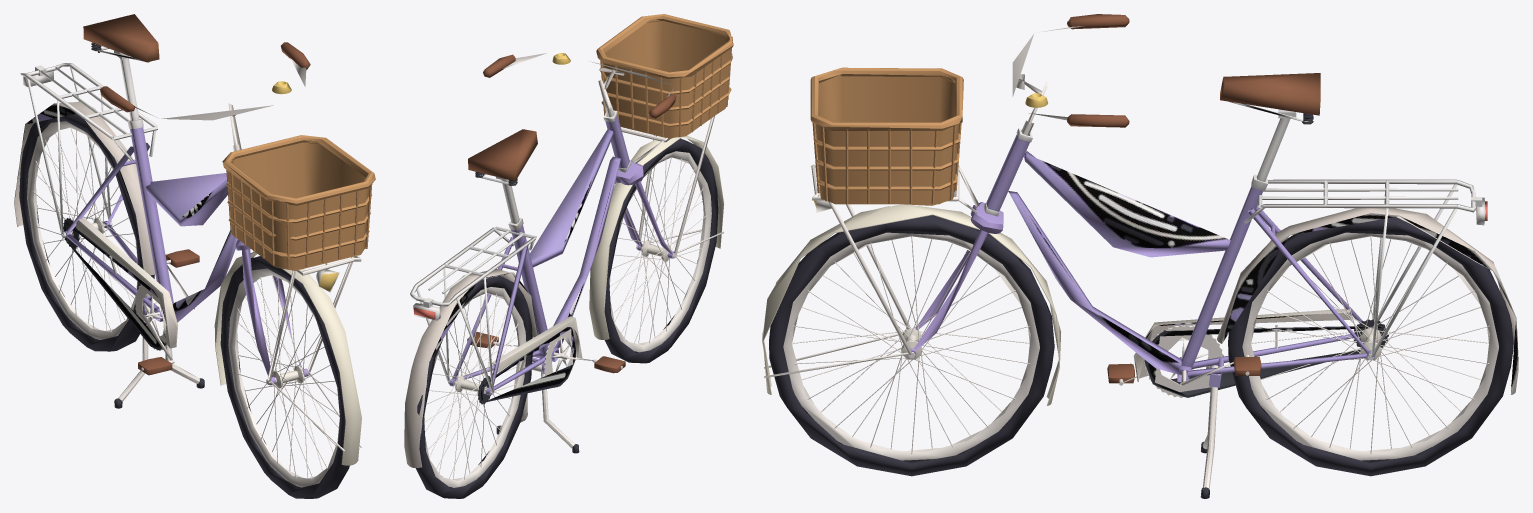
The model's file is bicycle.glb.
3 views of the same model, side by side, from view 1: azimuth 30°, elevation 25°; view 2: azimuth 150°, elevation 25°; view 3: azimuth 270°, elevation 25° (orthographic). The views are drawn at different scales.
Visible parts, largest first — view 1: bicycle_crank, bicycle_body; view 2: bicycle_crank, bicycle_body; view 3: bicycle_crank, bicycle_body.
Boxes of the visible parts, box(x1,y1,x2,y2) form: bicycle_crank: box(19, 42, 375, 498); bicycle_body: box(14, 14, 237, 350); bicycle_crank: box(415, 14, 733, 498); bicycle_body: box(404, 110, 631, 467); bicycle_crank: box(762, 14, 1513, 498); bicycle_body: box(983, 73, 1518, 397).
Bounding box in the file's own units: 0.614 × 1.1 × 1.85.
Materials: 2 (2 with a texture image).
